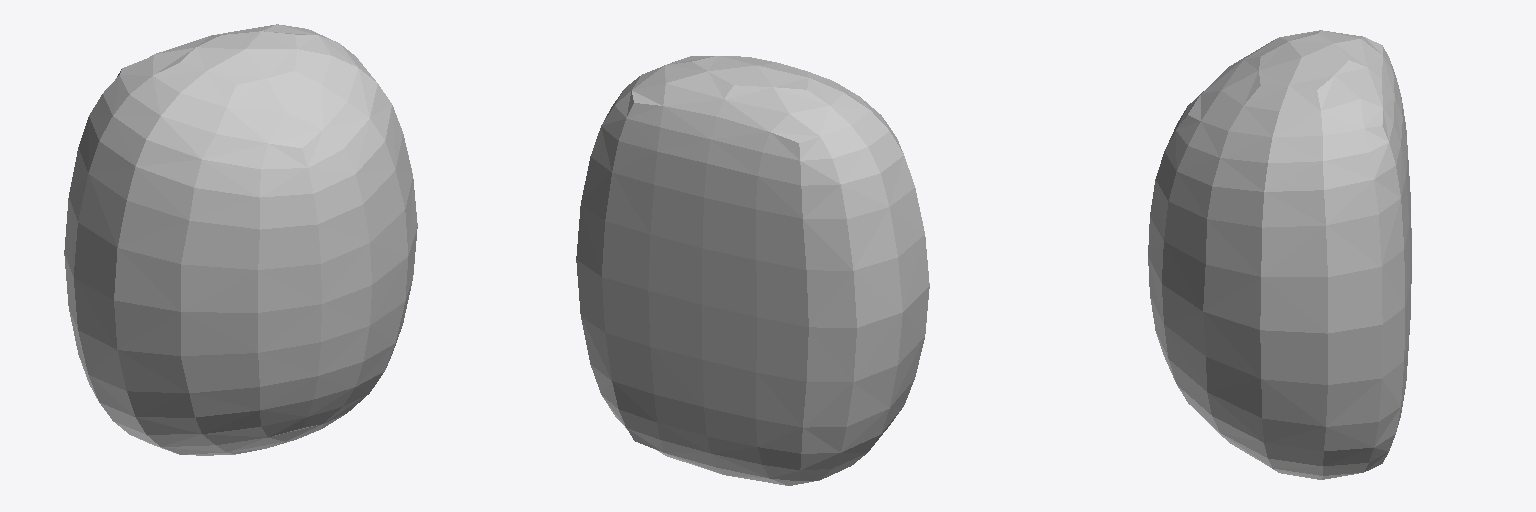
File: glow1.obj
3 renders of one model, left to right at view 1: azimuth 30°, elevation 25°; view 2: azimuth 150°, elevation 25°; view 3: azimuth 270°, elevation 25°, orthographic.
Parts seen in each view (by area): view 1: Part1; view 2: Part1; view 3: Part1.
Boxes of the visible parts, <box> form: Part1: <box>64,24,417,455</box>; Part1: <box>576,56,929,485</box>; Part1: <box>1148,30,1411,479</box>.
Size of the model in its own units: 216 by 258 by 155.